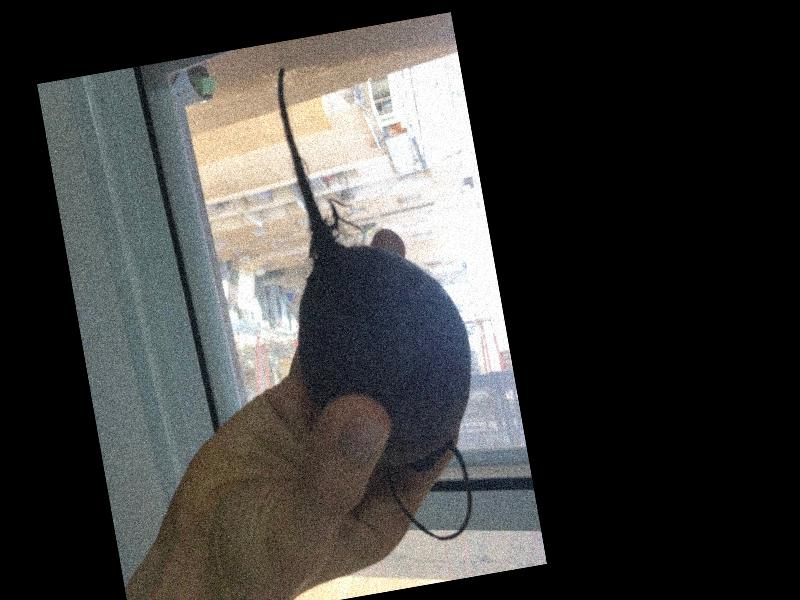Beet: (250, 42, 501, 557)
